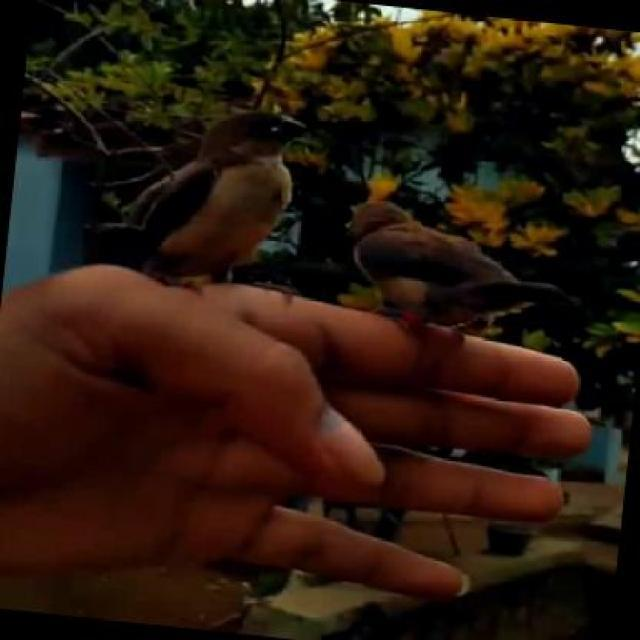Bird: (75, 80, 314, 290), (324, 144, 520, 381)
